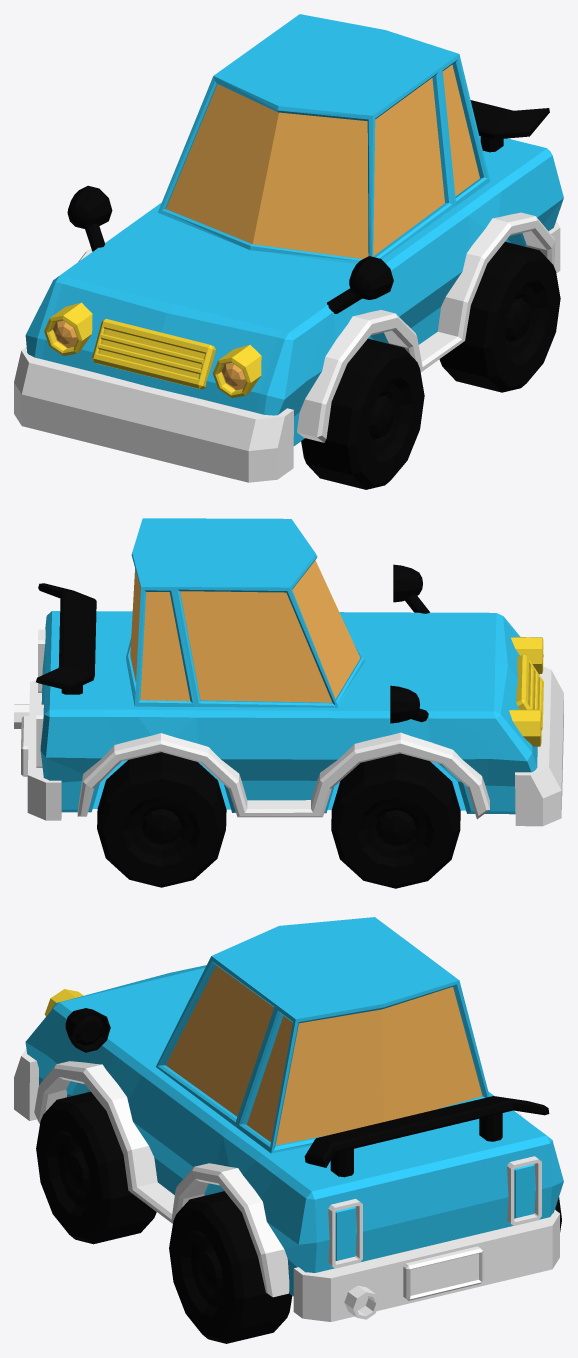
File: ToyObject_074.fbx
3 renders of one model, top to bottom at view 1: azimuth 30°, elevation 25°; view 2: azimuth 150°, elevation 25°; view 3: azimuth 270°, elevation 25°, orthographic. The views are drawn at different scales.
Visible parts, largest first — view 1: Object.064; view 2: Object.064; view 3: Object.064.
Part boxes in pixels (box(x1,y1,x2,y2)): Object.064: box(14, 14, 563, 489); Object.064: box(14, 518, 563, 888); Object.064: box(14, 917, 563, 1343).
Size of the model in its own units: 0.2501 by 0.1274 by 0.2042.
